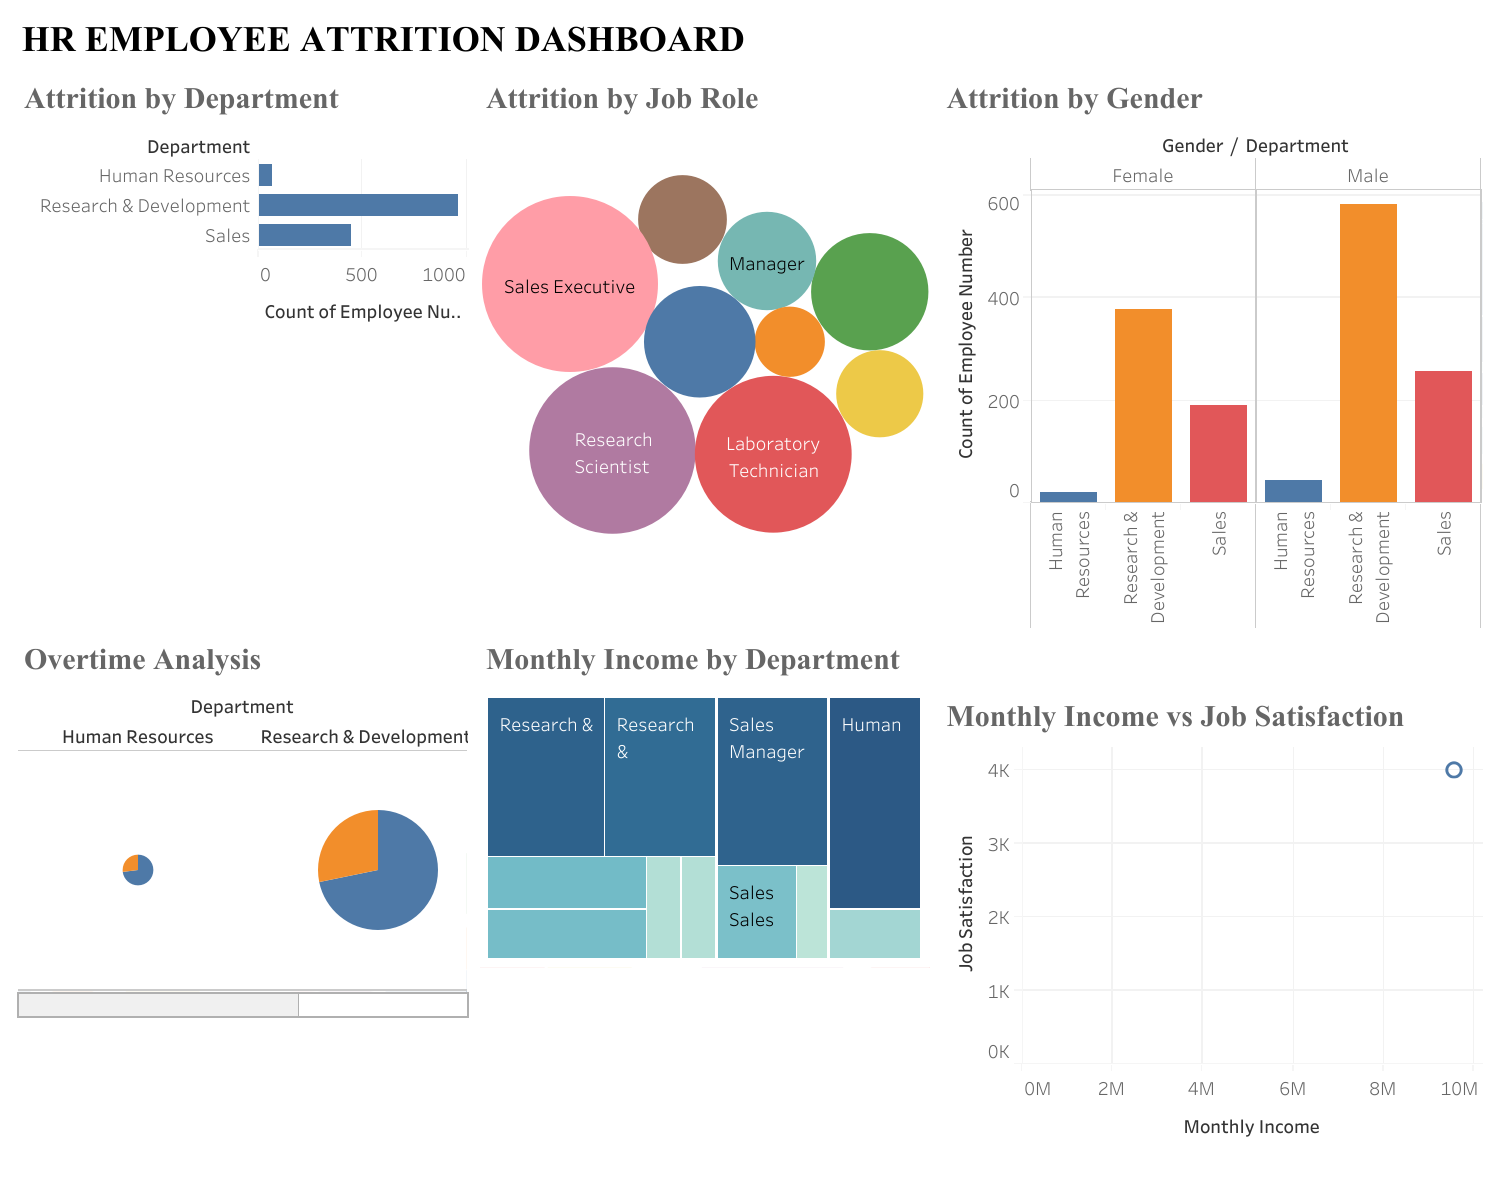

The dashboard page shown, as its layout file describes it:
{"tool":"tableau","page":{"name":"Dashboard 1","canvas":[1000,800],"ordinal":0},"visuals":[{"type":"title","box":[8,8,984,36]},{"type":"worksheet","title":"Sheet 1","mark":"Automatic","rows":["Department"],"cols":["EmployeeNumber"],"box":[8,44,307.5,374]},{"type":"worksheet","title":"Sheet 3","mark":"Circle","box":[315.5,44,307.5,374]},{"type":"worksheet","title":"Sheet 2","mark":"Automatic","rows":["EmployeeNumber"],"cols":["Gender","Department"],"box":[623,44,369,380.5]},{"type":"worksheet","title":"Sheet 4","mark":"Pie","cols":["Department"],"box":[8,418,307.5,374]},{"type":"worksheet","title":"Sheet 7","mark":"Automatic","box":[315.5,418,307.5,374]},{"type":"legend","title":"Sheet 1","param":"[federated.10ow1970xemx0m16md5lo1g7xeue].[cnt:EmployeeNumber:qk]","box":[623,424.5,369,32]},{"type":"worksheet","title":"Sheet 5","mark":"Automatic","rows":["JobSatisfaction"],"cols":["MonthlyIncome"],"box":[623,456.5,369,313.5]},{"type":"legend","title":"Sheet 7","param":"[federated.10ow1970xemx0m16md5lo1g7xeue].[avg:MonthlyIncome:qk]","box":[623,770,369,22]}]}

Visuals, with their boxes in screenshot pixels (x1, y1, x2, y2), scaled from the page's 1000x800 canvas onto the 1500x1200 screenshot:
title: locate(12, 12, 1488, 66)
"Sheet 1" worksheet: locate(12, 66, 473, 627)
"Sheet 3" worksheet (Circle marks): locate(473, 66, 934, 627)
"Sheet 2" worksheet: locate(934, 66, 1488, 637)
"Sheet 4" worksheet (Pie marks): locate(12, 627, 473, 1188)
"Sheet 7" worksheet: locate(473, 627, 934, 1188)
"Sheet 1" legend: locate(934, 637, 1488, 685)
"Sheet 5" worksheet: locate(934, 685, 1488, 1155)
"Sheet 7" legend: locate(934, 1155, 1488, 1188)
